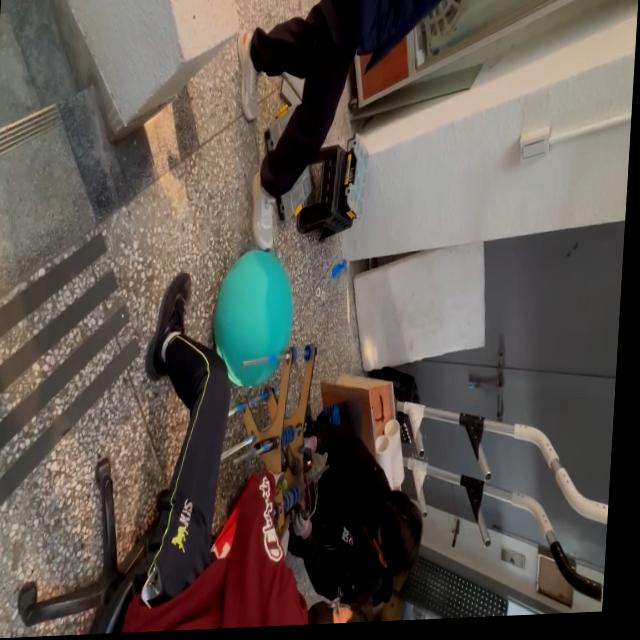ALGAE: (208, 245, 297, 390)
